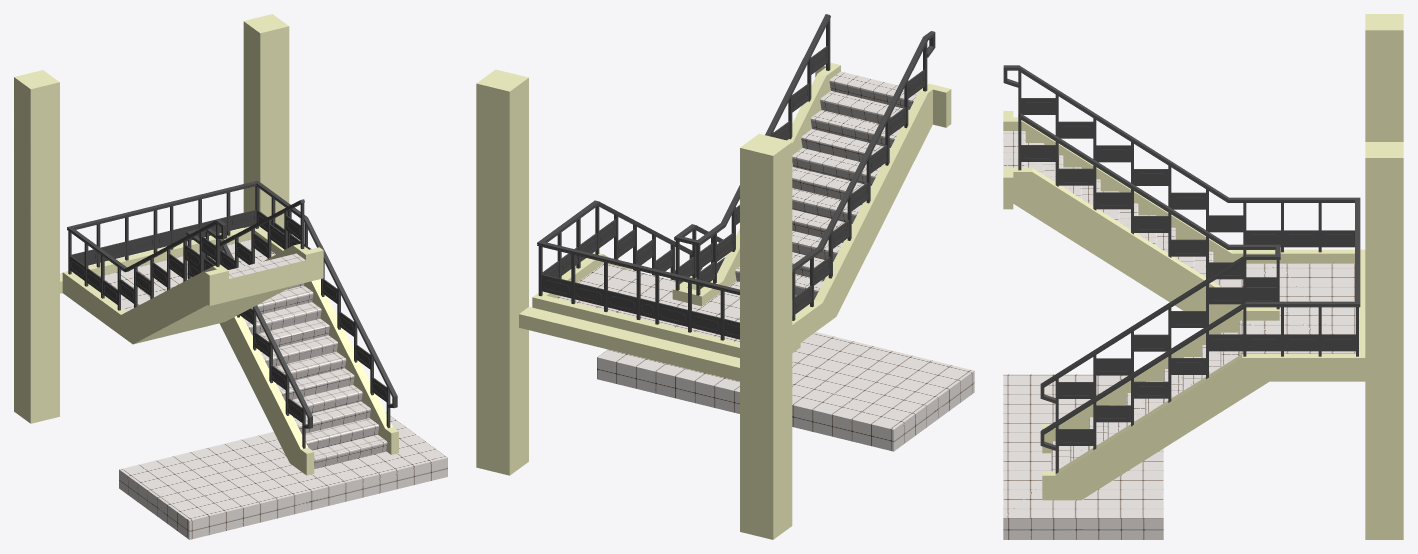
3 views of the same model, side by side, from view 1: azimuth 30°, elevation 25°; view 2: azimuth 150°, elevation 25°; view 3: azimuth 270°, elevation 25° (orthographic). The views are drawn at different scales.
Visible parts, largest first — view 1: Group81, Group84, Group83, Group63, Group82, Group85, Group86; view 2: Group81, Group84, Group63, Group83, Group85, Group82, Group86; view 3: Group81, Group63, Group84, Group82, Group83, Group85, Group86, Group50, Group40, Group6, Group8, Group10 (+23 smaller).
Boxes of the visible parts, left/top/right/bottom form: Group81: left=14, top=14, right=289, bottom=423; Group84: left=119, top=413, right=447, bottom=539; Group83: left=100, top=239, right=387, bottom=468; Group63: left=60, top=226, right=398, bottom=454; Group82: left=187, top=243, right=323, bottom=475; Group85: left=67, top=180, right=397, bottom=408; Group86: left=186, top=199, right=312, bottom=428; Group81: left=476, top=69, right=792, bottom=539; Group84: left=597, top=332, right=974, bottom=451; Group63: left=519, top=83, right=951, bottom=381; Group83: left=556, top=71, right=918, bottom=342; Group85: left=537, top=31, right=935, bottom=295; Group82: left=672, top=62, right=840, bottom=353; Group86: left=674, top=14, right=830, bottom=246; Group81: left=1365, top=14, right=1403, bottom=539; Group63: left=1003, top=111, right=1365, bottom=500; Group84: left=1003, top=374, right=1163, bottom=539; Group82: left=1003, top=167, right=1279, bottom=453; Group83: left=1003, top=131, right=1355, bottom=471; Group85: left=1003, top=65, right=1360, bottom=450; Group86: left=1018, top=113, right=1280, bottom=403; Group50: left=1058, top=168, right=1093, bottom=185; Group40: left=1058, top=121, right=1093, bottom=138; Group6: left=1284, top=334, right=1318, bottom=351; Group8: left=1246, top=334, right=1280, bottom=351; Group10: left=1096, top=405, right=1130, bottom=422.
Size of the model in its own units: 4540 by 5615 by 5336.
4 materials, 2 textured.
